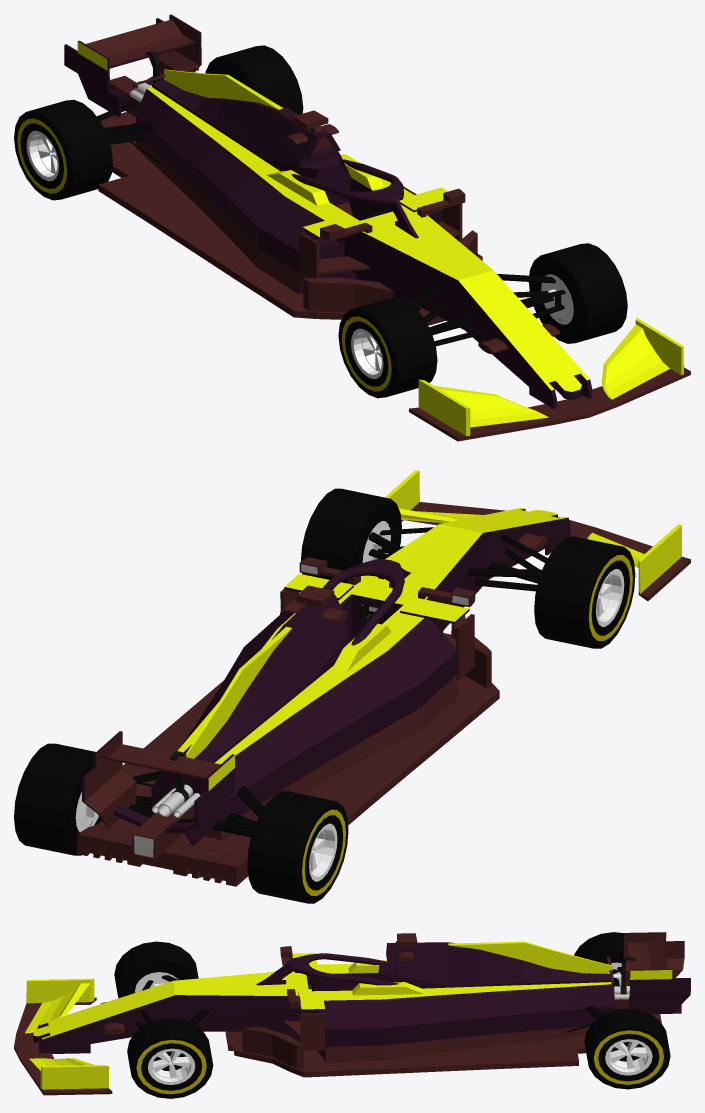
The model's file is F1-oposite_car02.obj.
3 renders of one model, top to bottom at view 1: azimuth 30°, elevation 25°; view 2: azimuth 150°, elevation 25°; view 3: azimuth 270°, elevation 25°, orthographic. The views are drawn at different scales.
Visible parts, largest first — view 1: Cube.002, Cube.005_Cube.018, Cube.007_Cube.020, Cube; view 2: Cube.002, Cube.007_Cube.020, Cube.005_Cube.018, Cube, Cylinder.003_Cylinder.005; view 3: Cube.002, Cube.005_Cube.018, Cube.007_Cube.020, Cube.
Part boxes in pixels (left/top/right/bottom): Cube.002: left=64, top=14, right=690, bottom=441; Cube.005_Cube.018: left=338, top=243, right=627, bottom=398; Cube.007_Cube.020: left=14, top=45, right=303, bottom=200; Cube: left=299, top=203, right=462, bottom=281; Cube.002: left=77, top=470, right=690, bottom=886; Cube.007_Cube.020: left=14, top=743, right=348, bottom=903; Cube.005_Cube.018: left=301, top=488, right=635, bottom=648; Cube: left=280, top=589, right=474, bottom=680; Cylinder.003_Cylinder.005: left=152, top=784, right=200, bottom=817; Cube.002: left=14, top=932, right=690, bottom=1095; Cube.005_Cube.018: left=114, top=941, right=213, bottom=1098; Cube.007_Cube.020: left=566, top=932, right=670, bottom=1089; Cube: left=283, top=1013, right=325, bottom=1050.
Bounding box in the file's own units: 2.13 × 0.9883 × 5.41.
